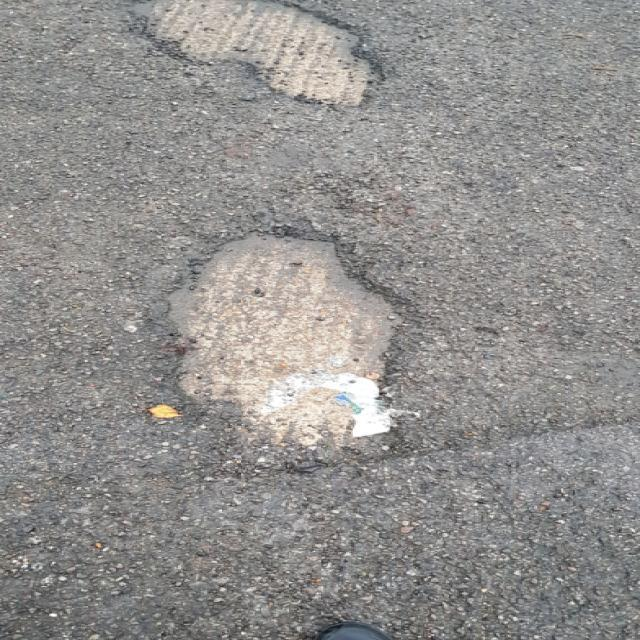Pothole: (155, 226, 423, 453), (132, 1, 388, 111)
